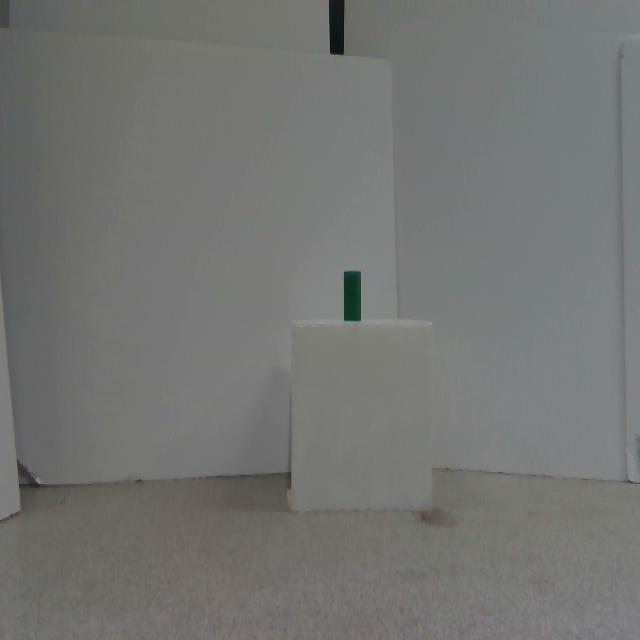green_cylinder: (344, 272, 361, 322)
